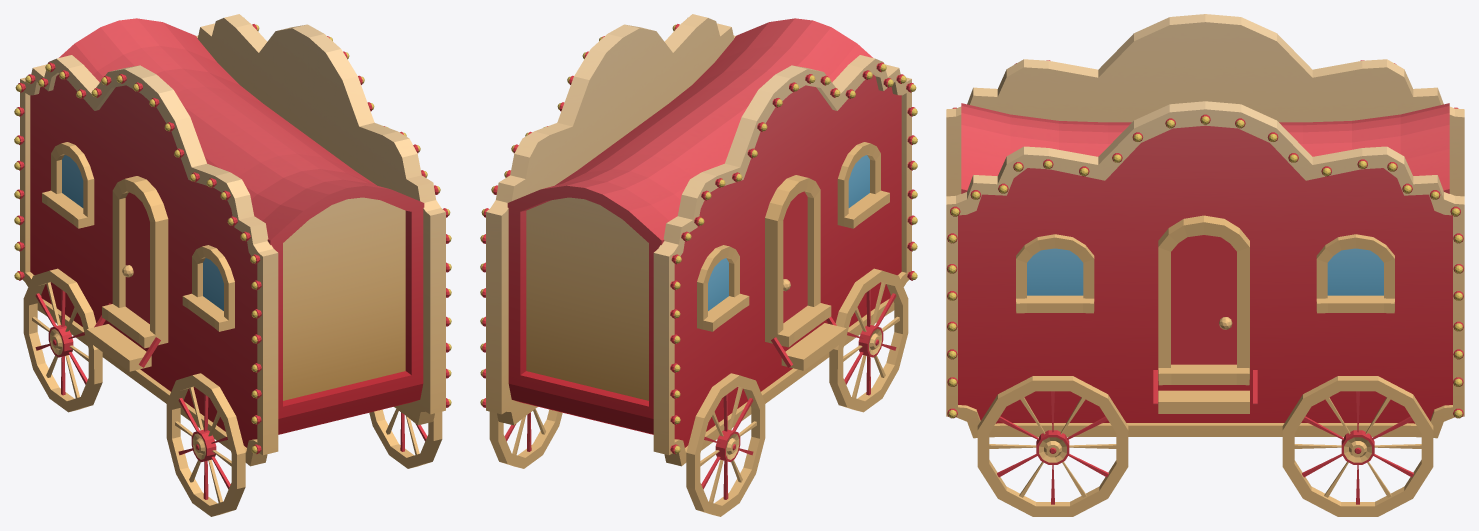
The model's file is wagon.fbx.
The picture shows the model from 3 angles, left to right: view 1: azimuth 30°, elevation 25°; view 2: azimuth 150°, elevation 25°; view 3: azimuth 270°, elevation 25°; orthographic projection. The views are drawn at different scales.
Parts seen in each view (by area): view 1: wagon; view 2: wagon; view 3: wagon.
Boxes of the visible parts, x1=… form: wagon: x1=14, y1=14, x2=451, y2=516; wagon: x1=480, y1=14, x2=917, y2=516; wagon: x1=946, y1=14, x2=1464, y2=516.
Size of the model in its own units: 521 by 747 by 874.
